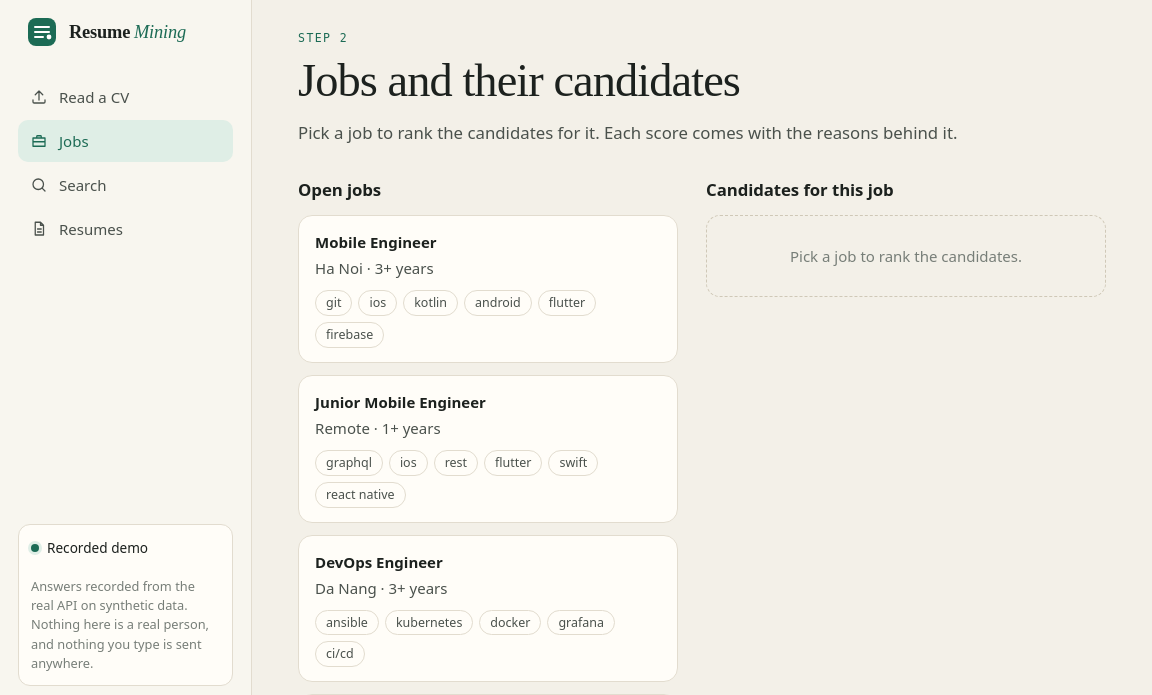
the recorded demo, end to end › ranks candidates for the job that is picked
Click the button that starts with "Mobile Engineer": (488, 289) x1=298 y1=215 x2=678 y2=362
(page scrolled)
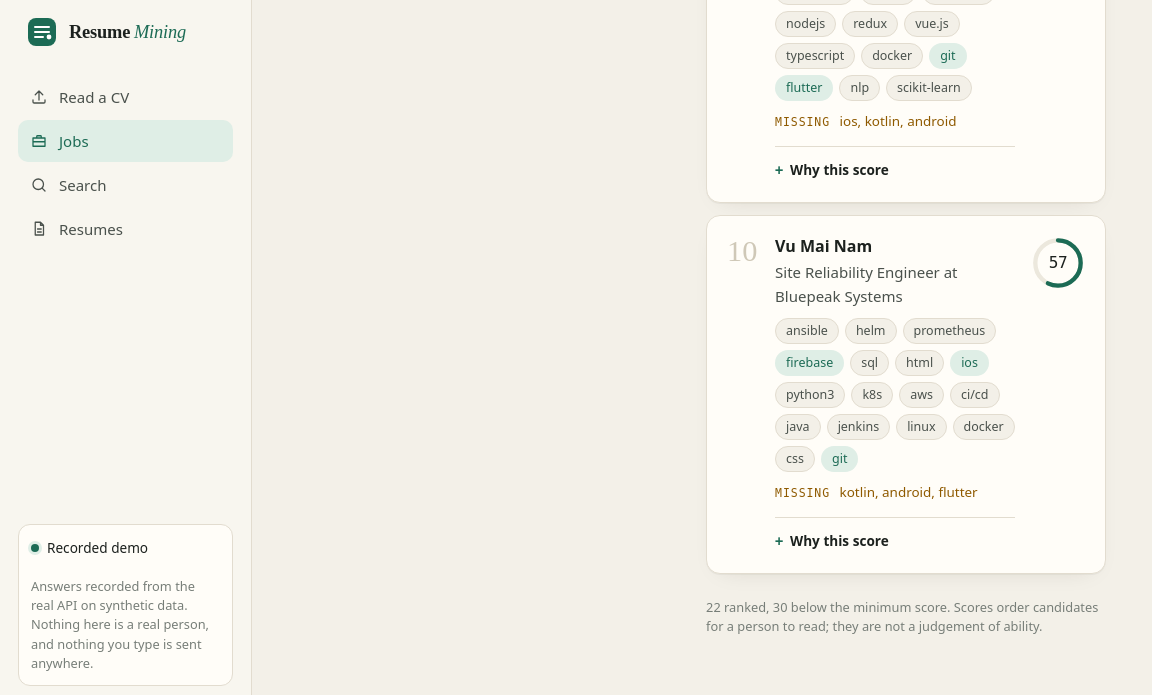
Expected: the text "below the minimum score" is shown, x1=706 y1=598 x2=1098 y2=635
